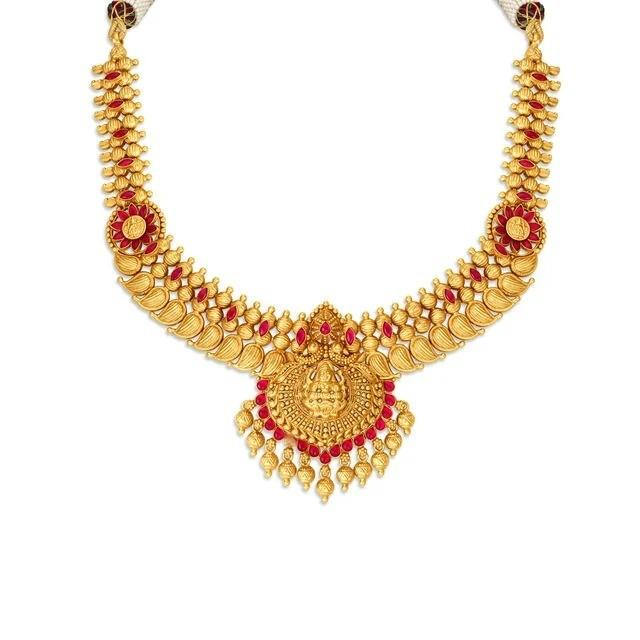missing gem: (415, 310, 423, 324), (286, 434, 295, 446)
